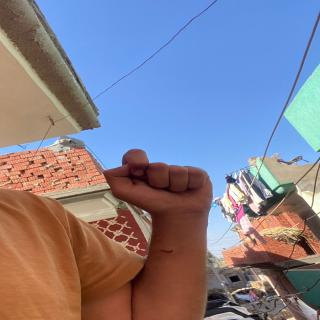FAA: (98, 145, 240, 222)
